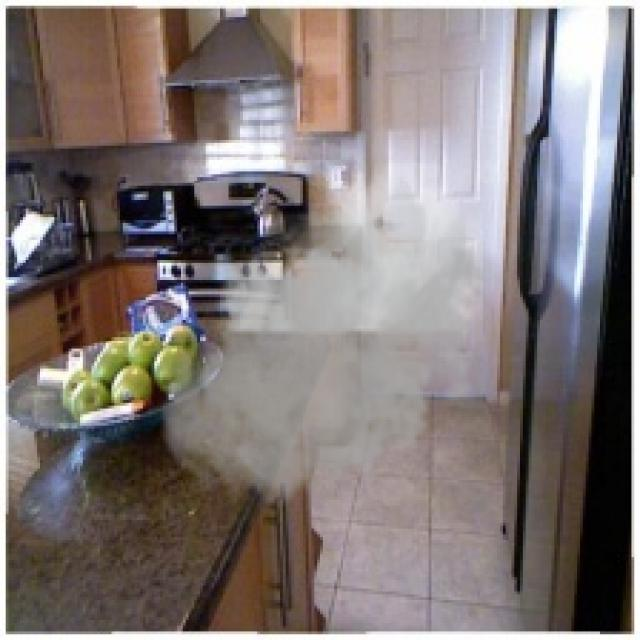smoke: (154, 163, 497, 520)
